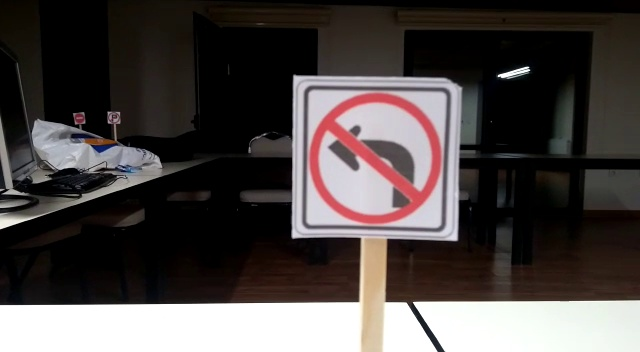sola_donulmez: (287, 80, 467, 239)
